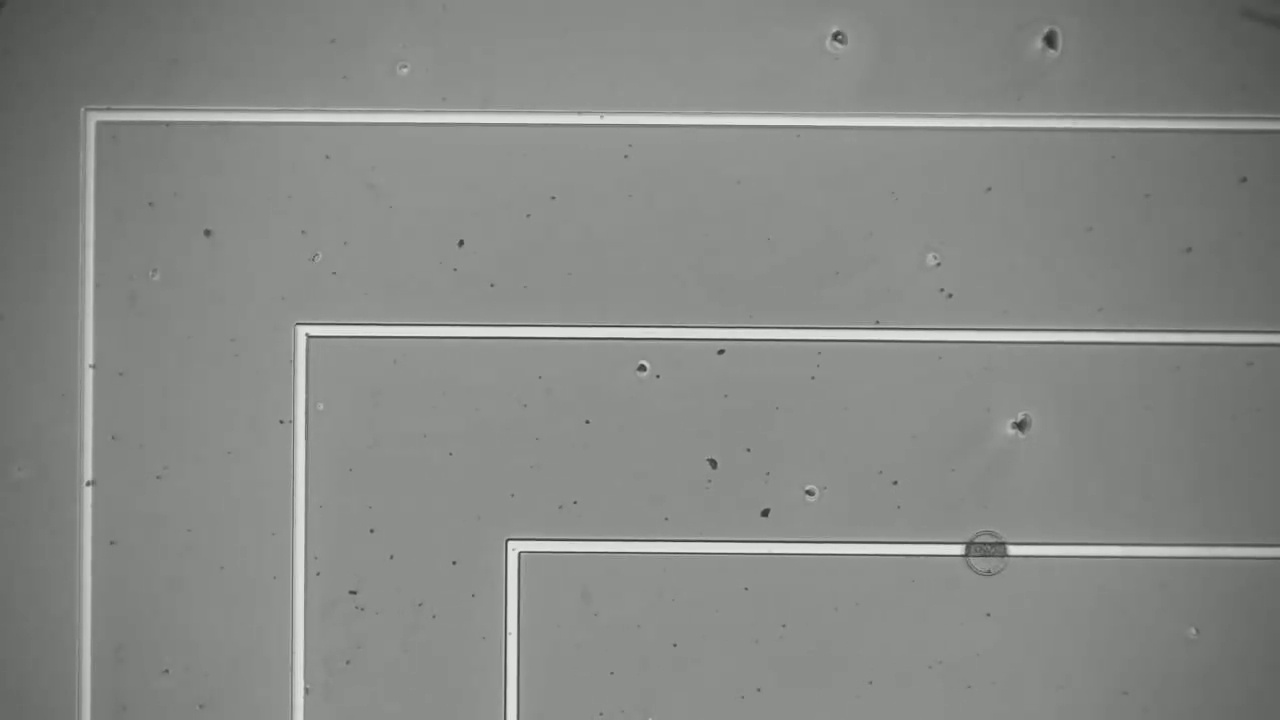gray_line: (947, 536, 1024, 566)
stains_enbedded: (72, 467, 99, 498)
